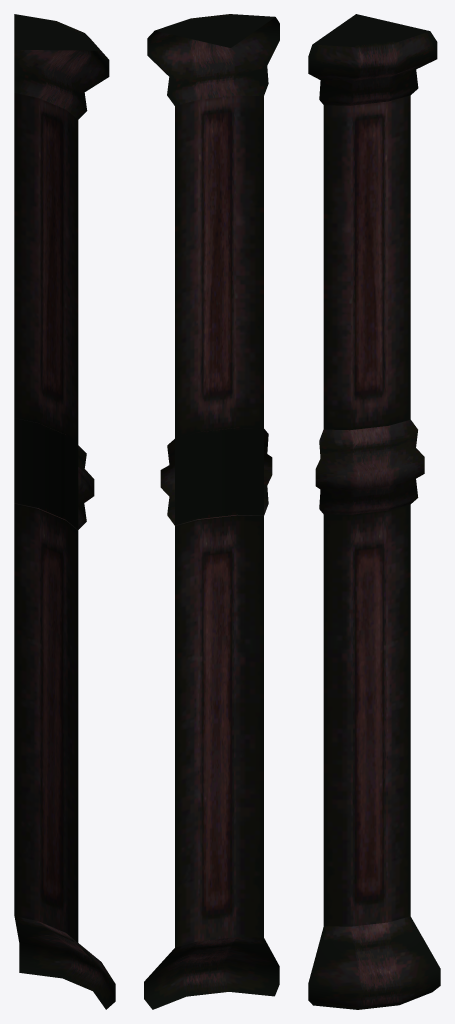
Rendered from 42_welder02_concave.dae.
3 renders of one model, left to right at view 1: azimuth 90°, elevation 25°; view 2: azimuth 150°, elevation 25°; view 3: azimuth 330°, elevation 25°, orthographic. The views are drawn at different scales.
Visible parts, largest first — view 1: welder02_concave; view 2: welder02_concave; view 3: welder02_concave.
Boxes of the visible parts, x1,y1,x2,y2 form: welder02_concave: (14, 14, 115, 1009); welder02_concave: (144, 14, 279, 1009); welder02_concave: (308, 14, 440, 1009).
Bounding box in the file's own units: 0.3489 × 3.64 × 0.3489.
